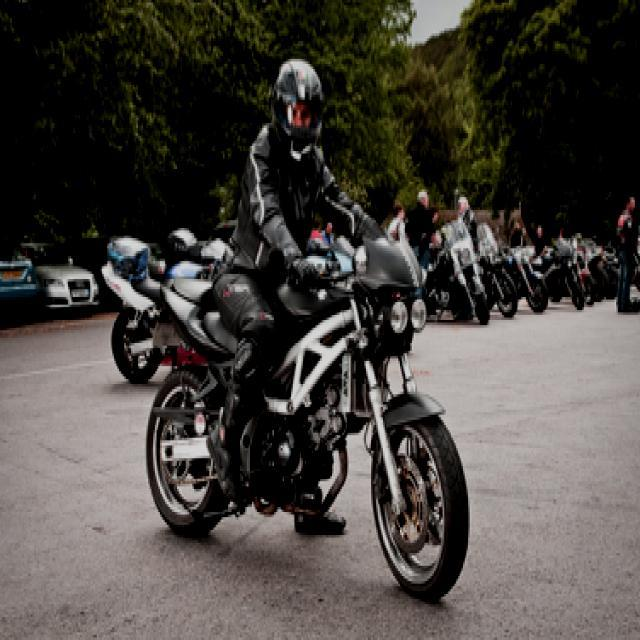Helmet: (270, 54, 328, 162)
